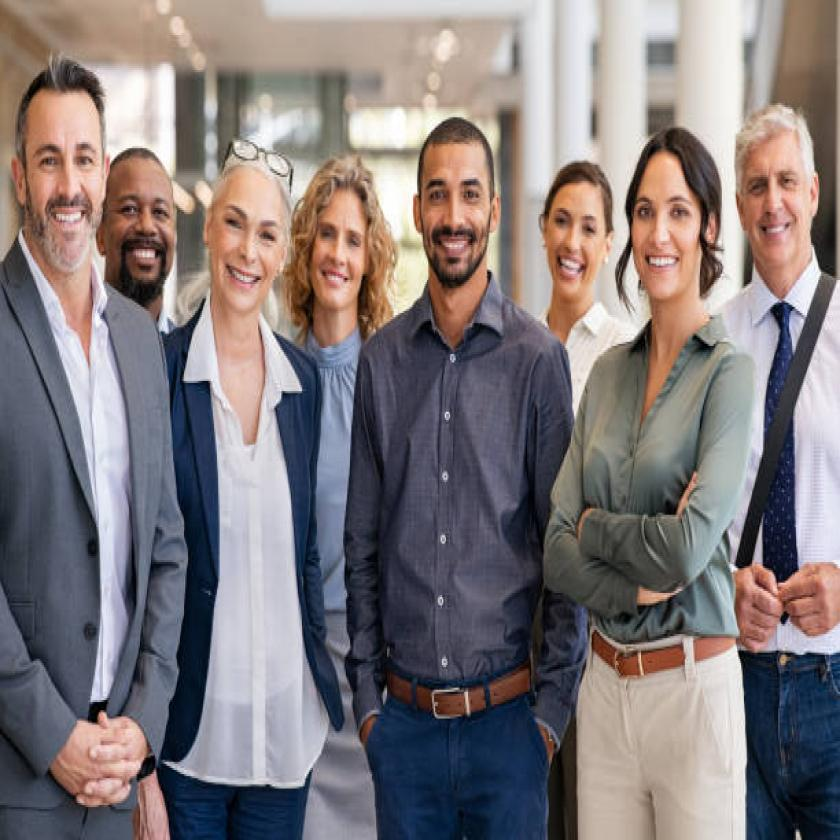Sin_casco: (8, 38, 104, 282), (621, 117, 722, 338), (297, 120, 394, 336), (207, 112, 293, 340), (413, 112, 501, 297), (731, 98, 825, 270), (516, 146, 614, 309), (101, 151, 183, 304)
